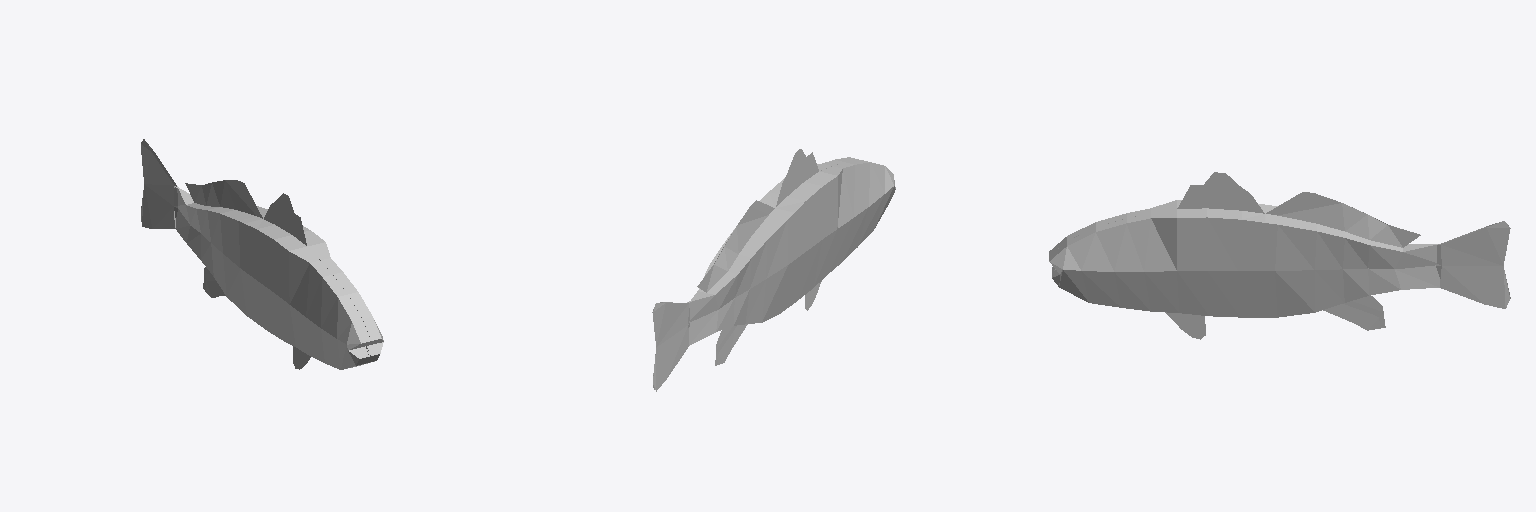
Rendered from Fish1.obj.
3 views of the same model, side by side, from view 1: azimuth 30°, elevation 25°; view 2: azimuth 150°, elevation 25°; view 3: azimuth 270°, elevation 25° (orthographic).
Parts seen in each view (by area): view 1: Cube.006; view 2: Cube.006; view 3: Cube.006.
Boxes of the visible parts, <box> form: Cube.006: <box>141,139,383,369</box>; Cube.006: <box>652,149,895,391</box>; Cube.006: <box>1049,172,1510,339</box>.
Bounding box in the file's own units: 0.1438 × 0.6169 × 1.54.